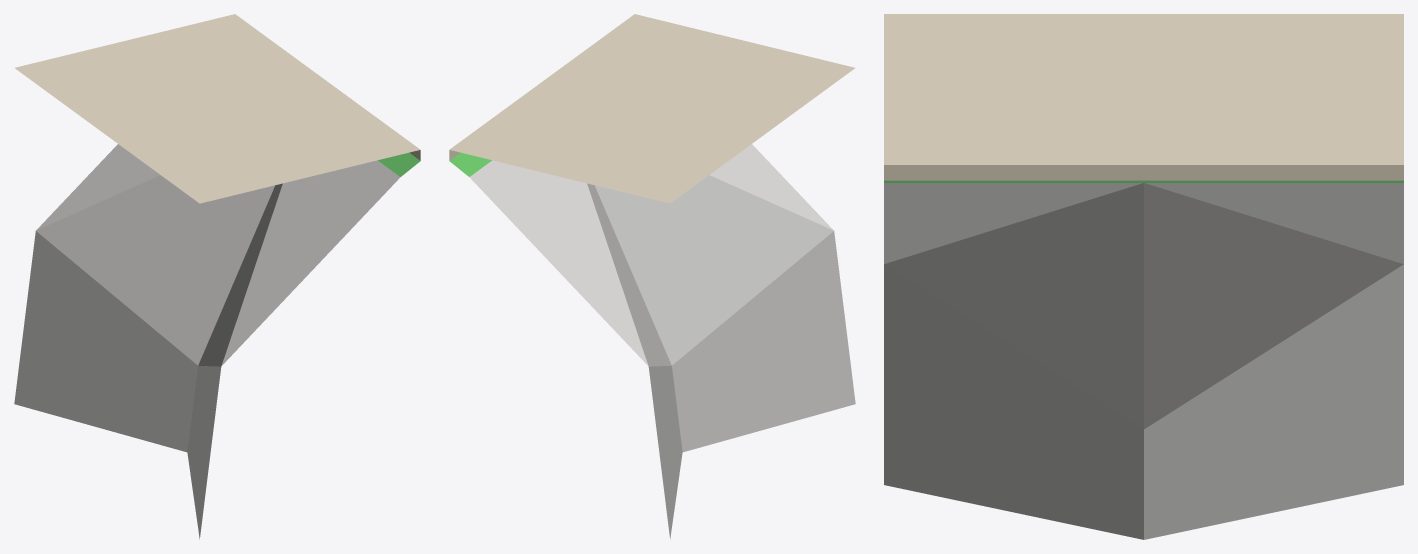
File: Cliff_Terrain_Side_Falloff_Center.glb
3 views of the same model, side by side, from view 1: azimuth 30°, elevation 25°; view 2: azimuth 150°, elevation 25°; view 3: azimuth 270°, elevation 25° (orthographic). The views are drawn at different scales.
Visible parts, largest first — view 1: Cliff_Terrain_Side_Falloff_Center; view 2: Cliff_Terrain_Side_Falloff_Center; view 3: Cliff_Terrain_Side_Falloff_Center.
Part boxes in pixels (left/top/right/bottom): Cliff_Terrain_Side_Falloff_Center: left=14, top=14, right=420, bottom=539; Cliff_Terrain_Side_Falloff_Center: left=449, top=14, right=855, bottom=539; Cliff_Terrain_Side_Falloff_Center: left=884, top=14, right=1403, bottom=539.
Bounding box in the file's own units: 0.3403 × 0.495 × 0.495.
